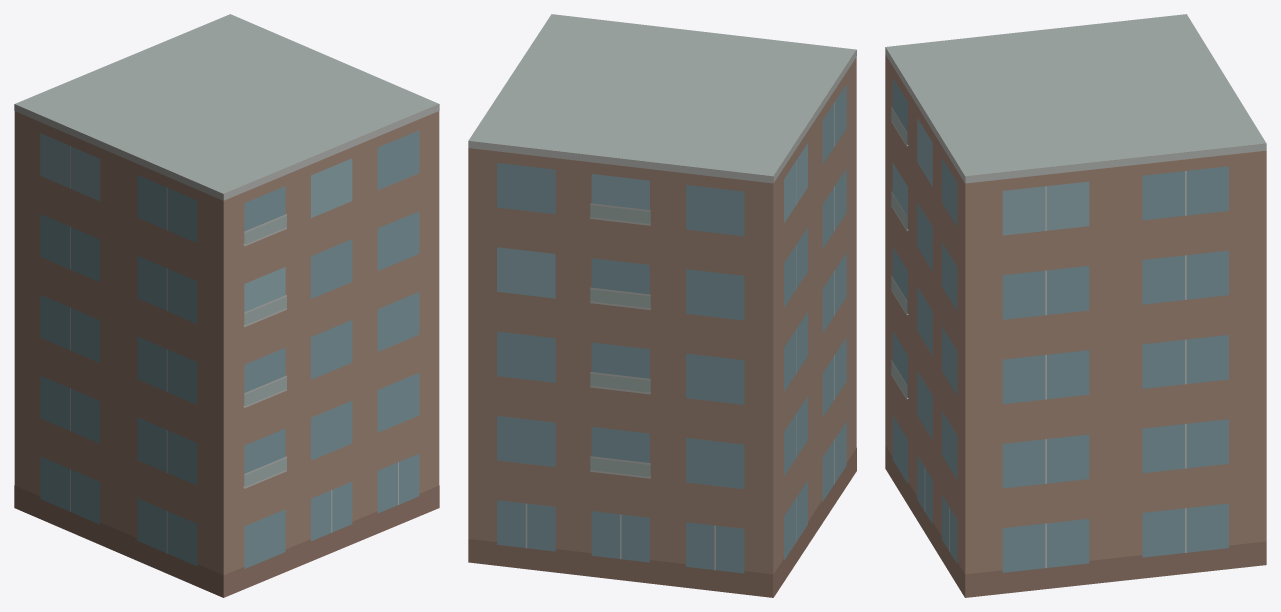
The model's file is survey-upis-32716756.glb.
3 renders of one model, left to right at view 1: azimuth 30°, elevation 25°; view 2: azimuth 150°, elevation 25°; view 3: azimuth 270°, elevation 25°, orthographic. The views are drawn at different scales.
Parts seen in each view (by area): view 1: survey-upis-32716756.tmp; view 2: survey-upis-32716756.tmp; view 3: survey-upis-32716756.tmp.
Part boxes in pixels (box(x1,y1,x2,y2)): survey-upis-32716756.tmp: box(14, 14, 439, 597); survey-upis-32716756.tmp: box(468, 14, 856, 597); survey-upis-32716756.tmp: box(885, 14, 1266, 597).
Bounding box in the file's own units: 11.82 × 14.3 × 11.73.
